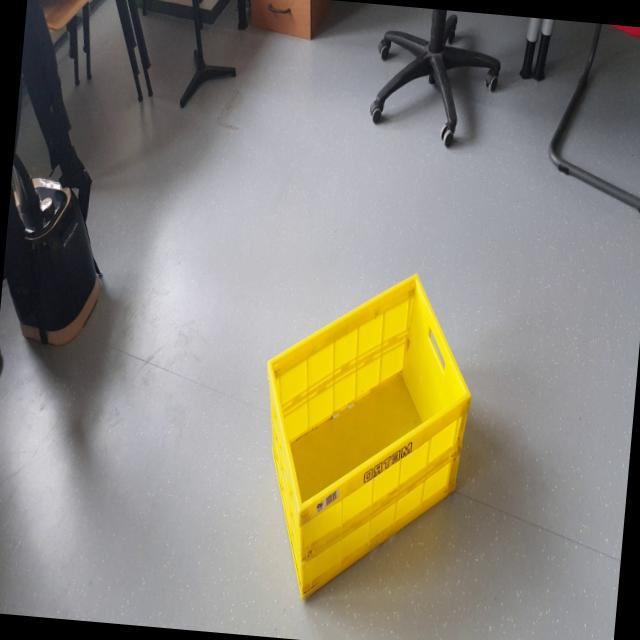box: (240, 254, 497, 630)
